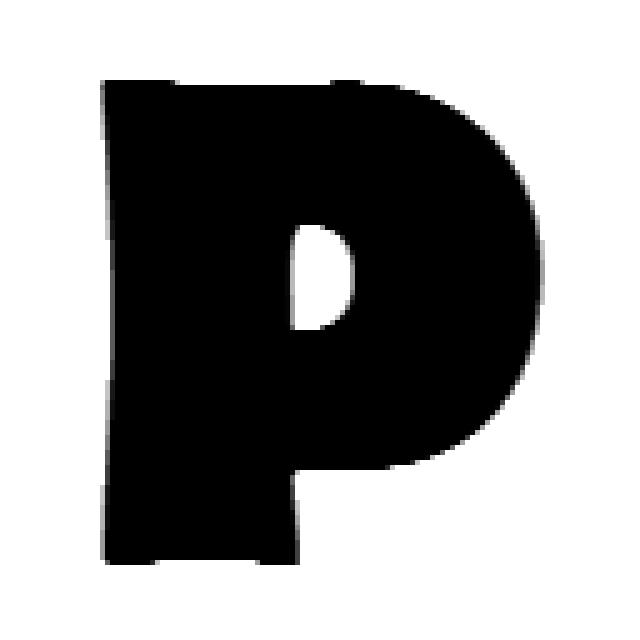P: (100, 80, 545, 570)
